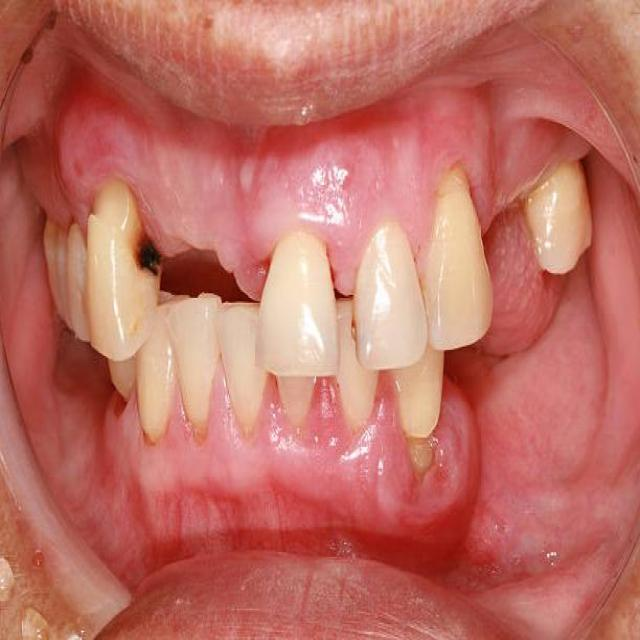caries: (114, 216, 170, 298)
